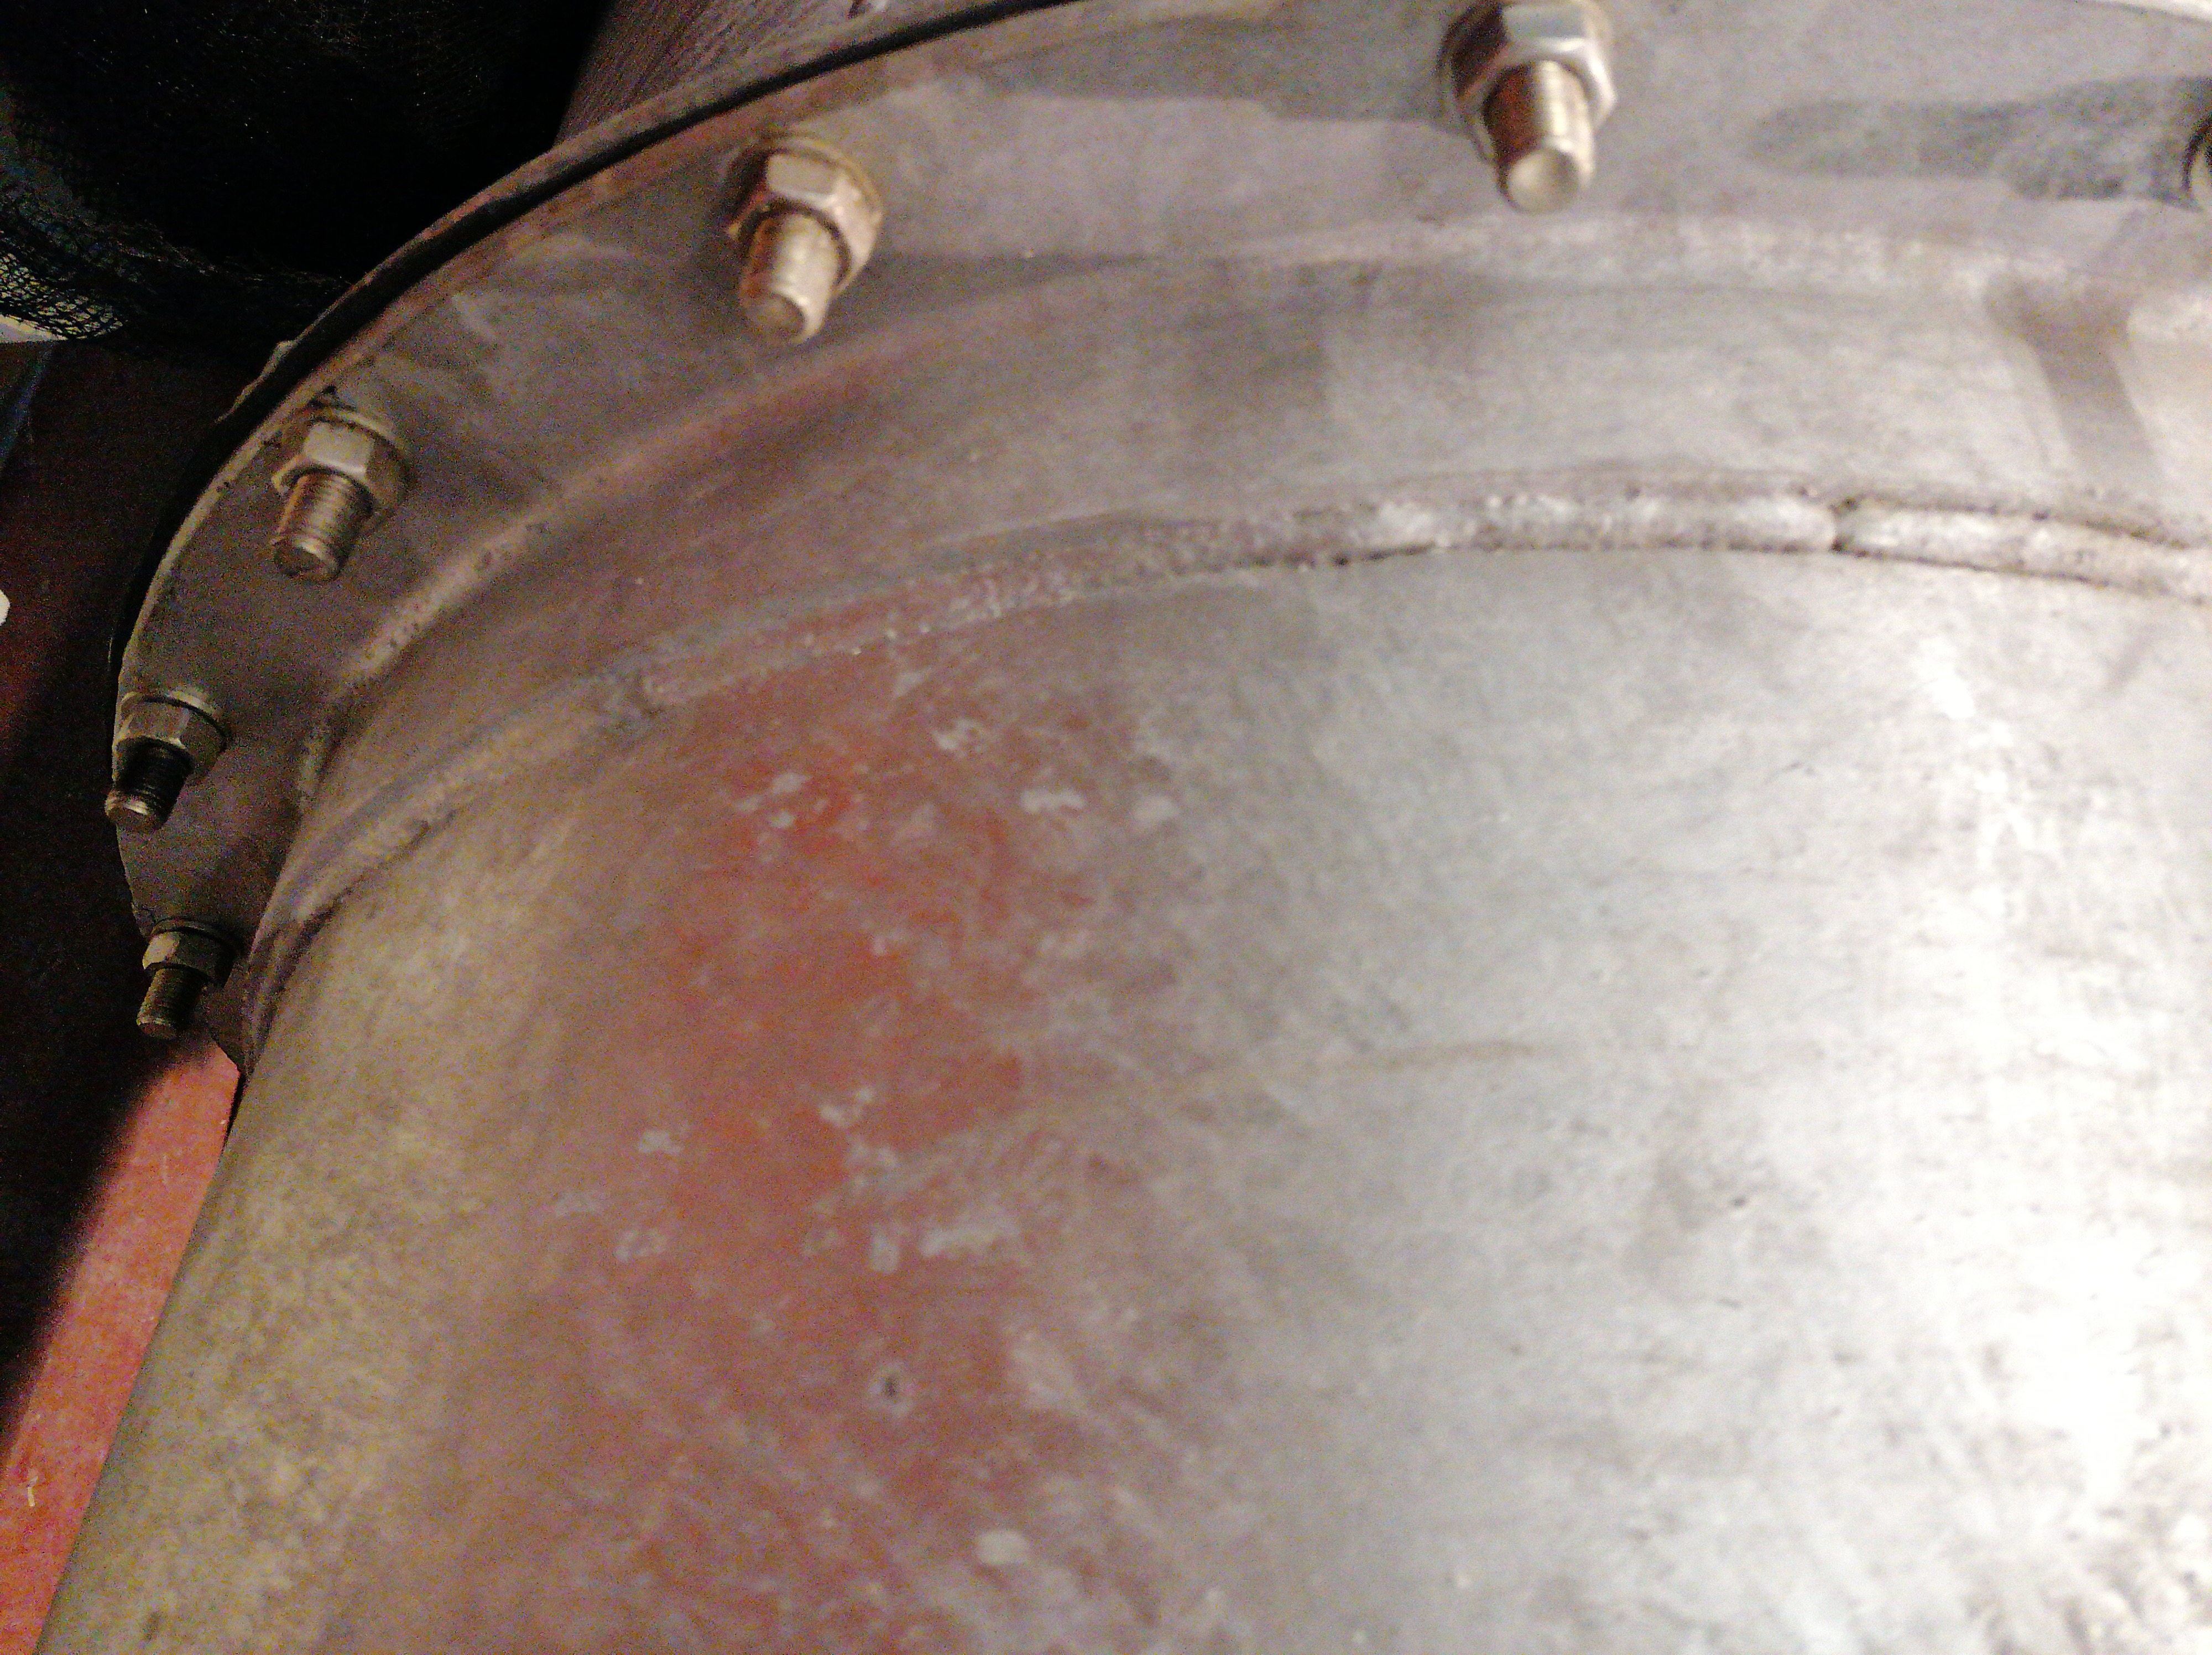bolt: (1491, 63, 1599, 216), (738, 214, 843, 344), (273, 475, 374, 582), (108, 741, 186, 838), (137, 967, 200, 1048)
nut: (1451, 7, 1630, 158), (719, 155, 872, 296), (269, 421, 410, 528), (108, 706, 224, 777), (139, 935, 231, 986)
